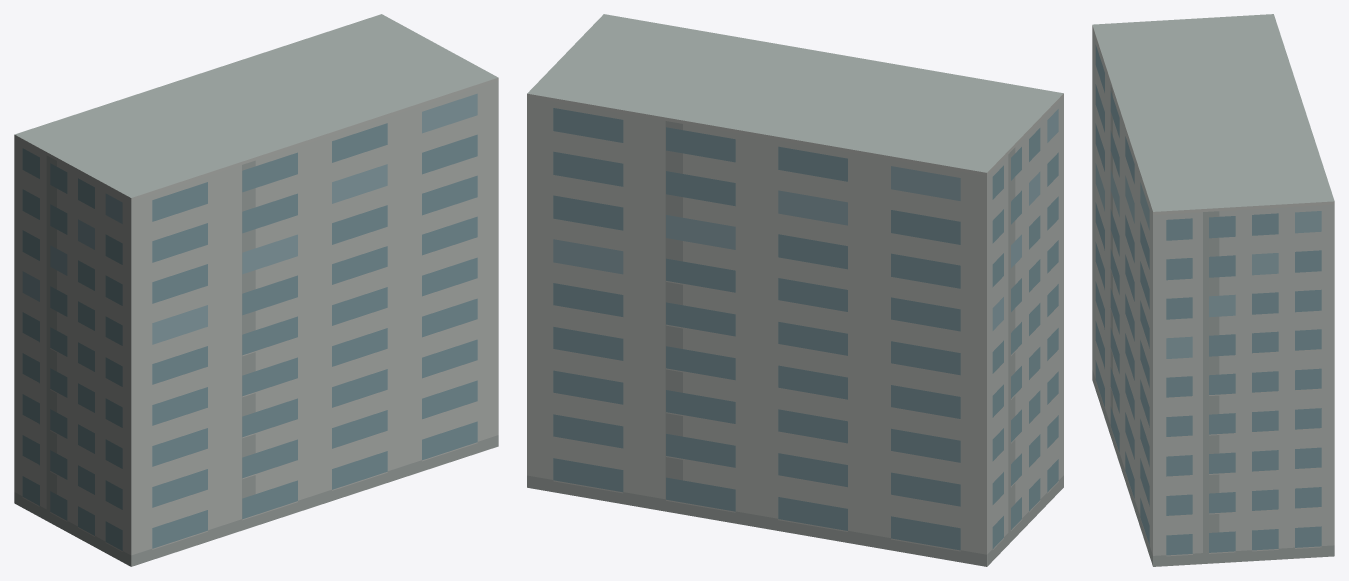
Rendered from residential-0ec1a887-d96c-4261-9fab-4e54ba8e688e.glb.
3 views of the same model, side by side, from view 1: azimuth 30°, elevation 25°; view 2: azimuth 150°, elevation 25°; view 3: azimuth 270°, elevation 25° (orthographic). The views are drawn at different scales.
Parts seen in each view (by area): view 1: residential-0ec1a887-d96c-4261-9fab-4e54ba8e688e.tmp; view 2: residential-0ec1a887-d96c-4261-9fab-4e54ba8e688e.tmp; view 3: residential-0ec1a887-d96c-4261-9fab-4e54ba8e688e.tmp.
Part boxes in pixels (box(x1,y1,x2,y2)): residential-0ec1a887-d96c-4261-9fab-4e54ba8e688e.tmp: box(14, 14, 498, 566); residential-0ec1a887-d96c-4261-9fab-4e54ba8e688e.tmp: box(527, 14, 1063, 566); residential-0ec1a887-d96c-4261-9fab-4e54ba8e688e.tmp: box(1092, 14, 1334, 566).
Size of the model in its own units: 33.49 by 28 by 17.34.
